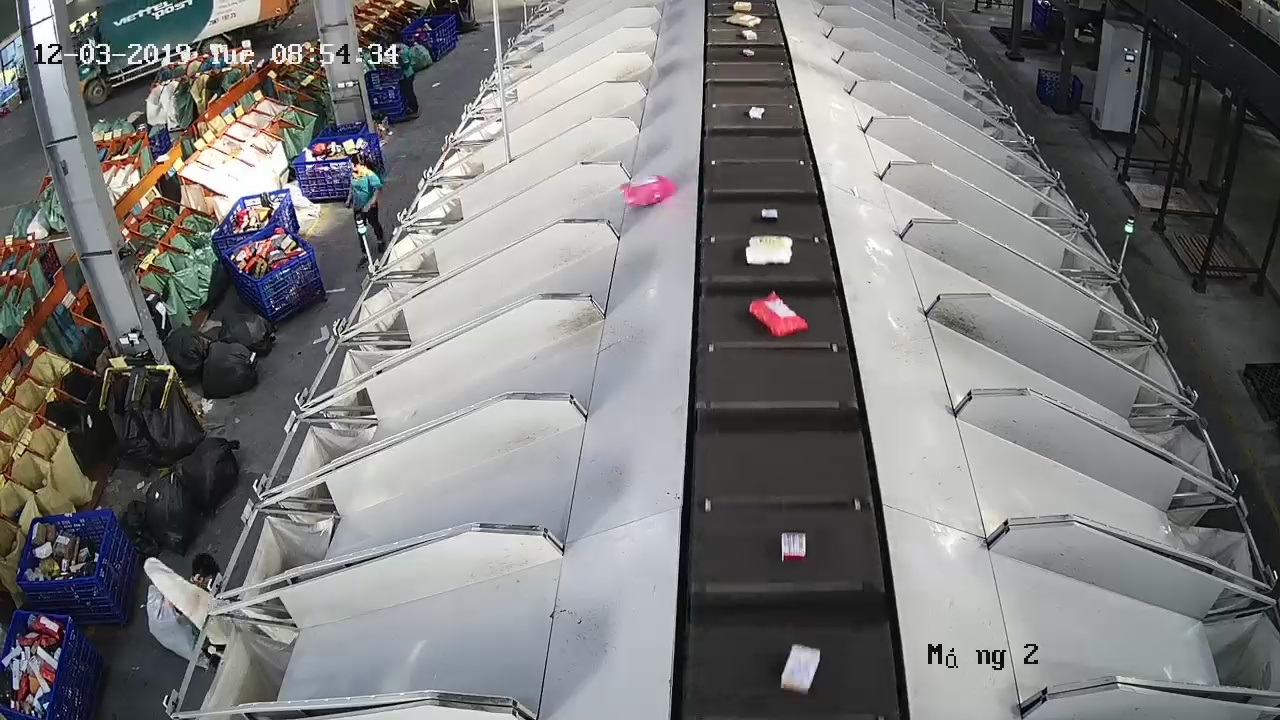parcel: (747, 288, 811, 339), (779, 641, 822, 696), (618, 174, 679, 208), (744, 233, 795, 267), (779, 530, 808, 564), (760, 206, 781, 222)
